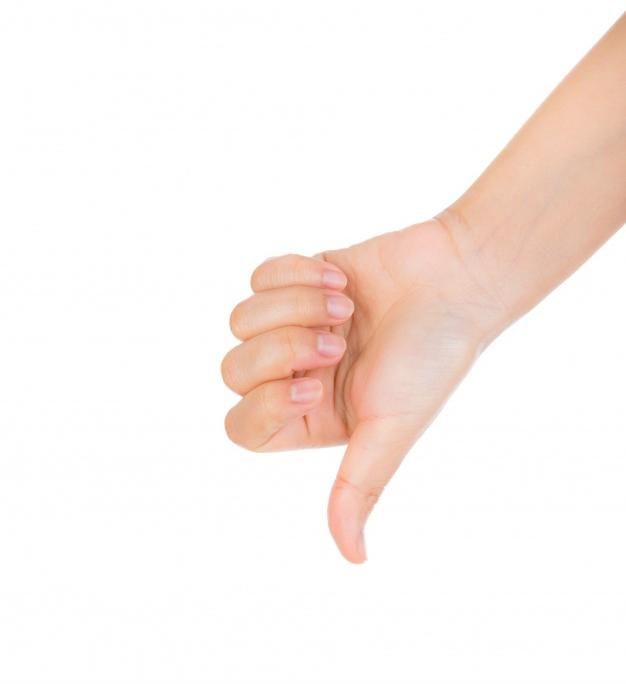thumbsdown: (221, 252, 397, 564)
